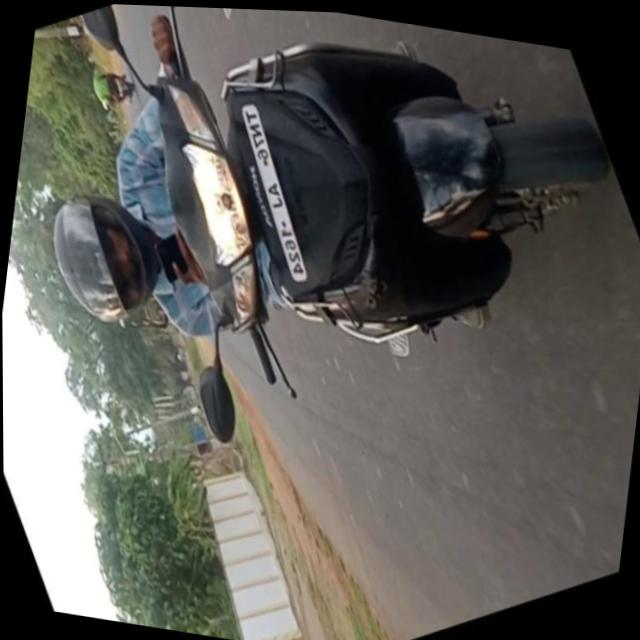USING_MOBILE: (27, 162, 229, 376)
